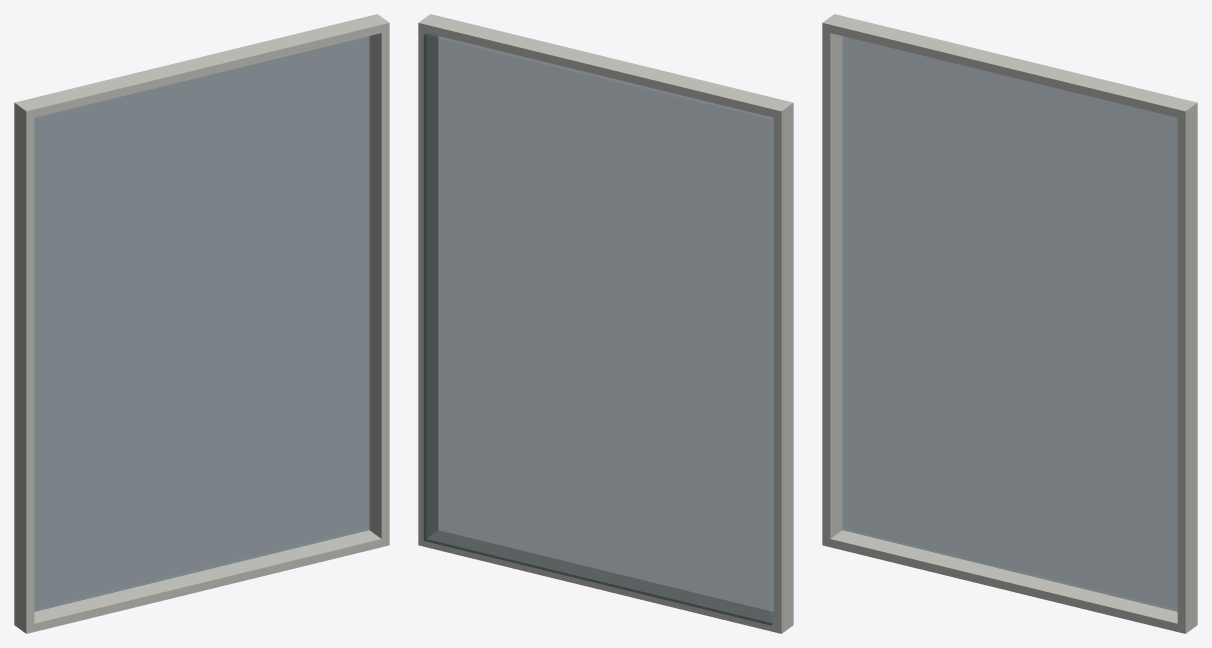
File: moderno_rectangle.glb
3 renders of one model, left to right at view 1: azimuth 30°, elevation 25°; view 2: azimuth 150°, elevation 25°; view 3: azimuth 330°, elevation 25°, orthographic.
Parts seen in each view (by area): view 1: window_glass#0001, window_reveal#0001; view 2: window_glass#0001, window_reveal#0001; view 3: window_glass#0001, window_reveal#0001.
Boxes of the visible parts, <box> form: window_glass#0001: <box>34,36,369,611</box>; window_reveal#0001: <box>14,14,389,633</box>; window_glass#0001: <box>423,33,773,625</box>; window_reveal#0001: <box>418,14,793,633</box>; window_glass#0001: <box>842,36,1177,611</box>; window_reveal#0001: <box>822,14,1197,633</box>.
Size of the model in its own units: 1.6 by 2.2 by 0.112.
